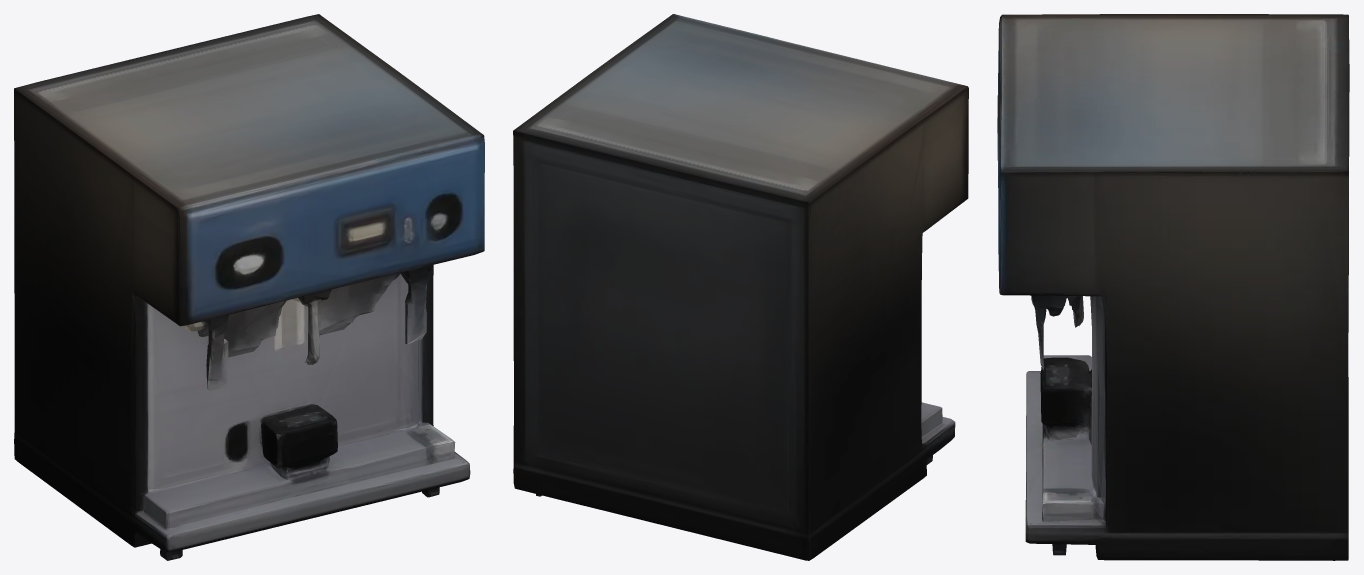
Rendered from food_fries_red.glb.
3 renders of one model, left to right at view 1: azimuth 30°, elevation 25°; view 2: azimuth 150°, elevation 25°; view 3: azimuth 270°, elevation 25°, orthographic. The views are drawn at different scales.
Parts seen in each view (by area): view 1: geometry_0; view 2: geometry_0; view 3: geometry_0.
Part boxes in pixels (bbox=[...]): geometry_0: bbox=[14, 14, 484, 560]; geometry_0: bbox=[513, 14, 968, 560]; geometry_0: bbox=[997, 14, 1349, 560].
Size of the model in its own units: 0.4101 by 0.484 by 0.387.
1 material, 1 textured.
